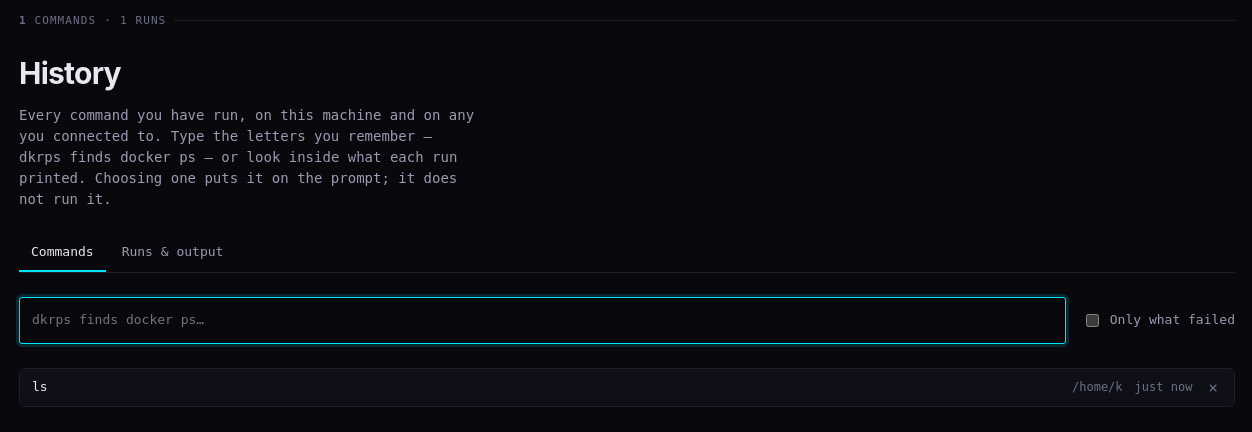
Test case: the history section › says which search found nothing
The width and height of the screenshot is (1252, 432).
Expected: the button "ls" is shown, [32,377,1060,398]
In the search field: (542, 321) [19,297,1066,344], type "kubectl"
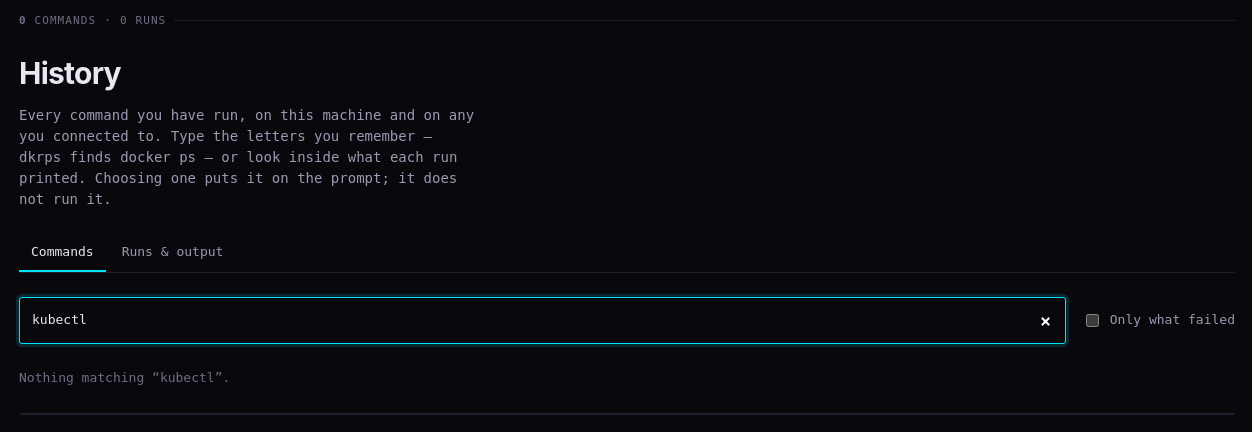
Expected: the text "Nothing matching “kubectl”." is shown, [19,370,230,385]
